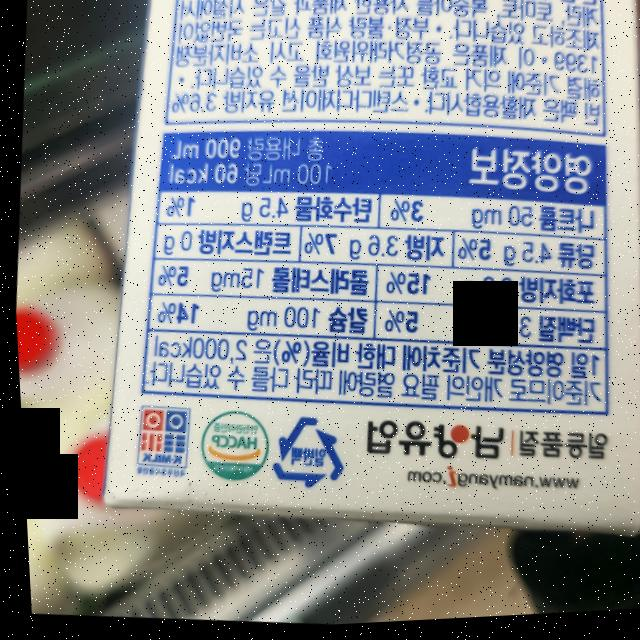NormalPack: (255, 409, 346, 503), (262, 413, 346, 499)
